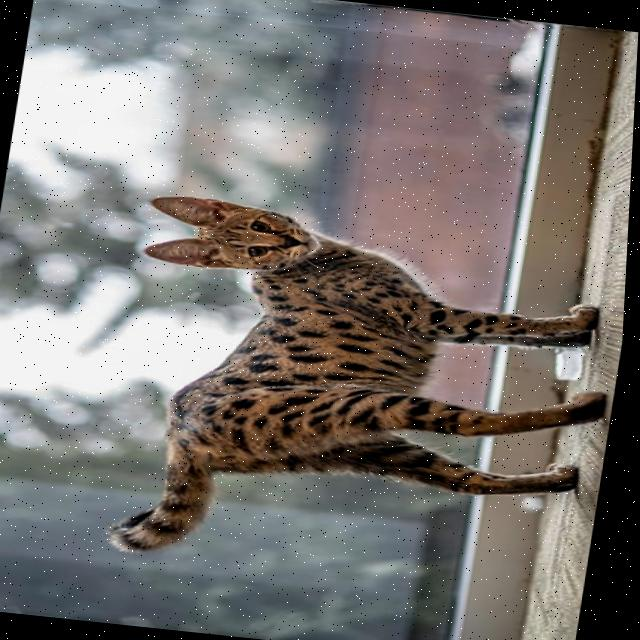Savannah: (81, 188, 632, 602)
